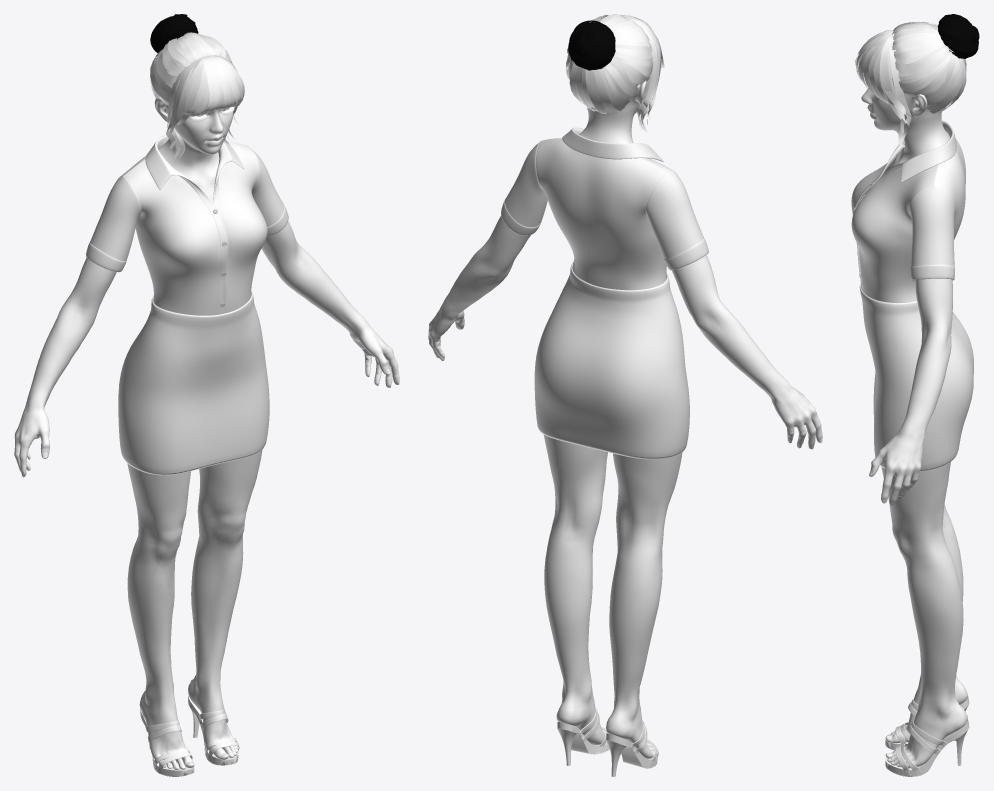
Rendered from girl.gltf.
The picture shows the model from 3 angles, left to right: view 1: azimuth 30°, elevation 25°; view 2: azimuth 150°, elevation 25°; view 3: azimuth 270°, elevation 25°; orthographic projection. The views are drawn at different scales.
Parts seen in each view (by area): view 1: body, shirt, skirt, hair, shoe; view 2: body, skirt, shirt, hair, shoe; view 3: body, shirt, skirt, hair, shoe.
Boxes of the visible parts, <box> form: body: <box>14,83,399,769</box>; shirt: <box>86,135,288,315</box>; skirt: <box>118,290,269,475</box>; hair: <box>150,14,244,163</box>; shoe: <box>140,694,239,776</box>; body: <box>428,74,822,758</box>; skirt: <box>534,262,689,459</box>; shirt: <box>501,127,708,290</box>; hair: <box>566,14,664,134</box>; shoe: <box>557,707,658,776</box>; body: <box>861,85,967,768</box>; shirt: <box>851,120,965,302</box>; skirt: <box>859,282,973,471</box>; hair: <box>855,14,979,147</box>; shoe: <box>885,696,969,776</box>.
Size of the model in its own units: 0.9613 by 1.78 by 0.2783.
Materials: 17 (15 with a texture image).
